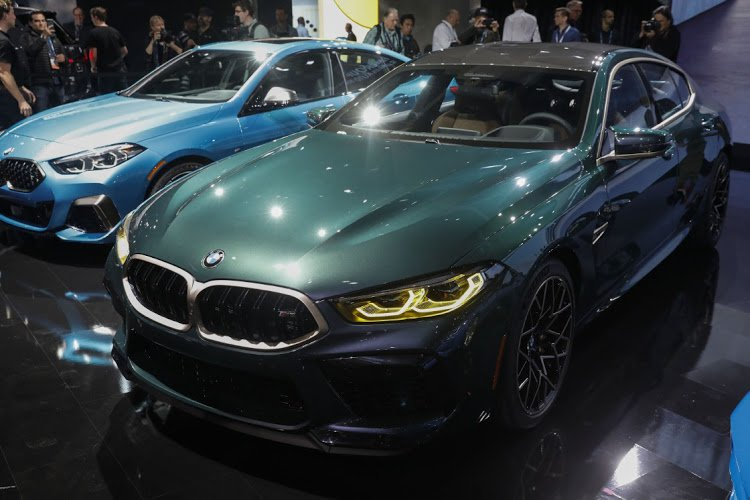car: (100, 46, 736, 464), (4, 41, 444, 250)
